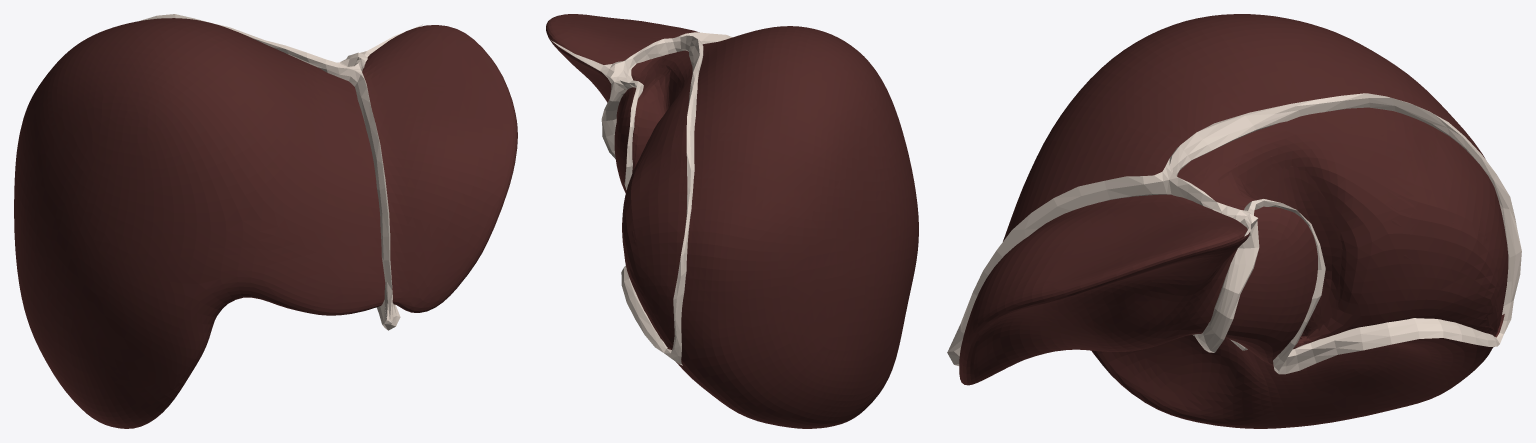
The model's file is VH_M_Liver_0.8.glb.
3 views of the same model, side by side, from view 1: azimuth 30°, elevation 25°; view 2: azimuth 150°, elevation 25°; view 3: azimuth 270°, elevation 25° (orthographic). The views are drawn at different scales.
Visible parts, largest first — view 1: VH_M_liver_capsule, VH_M_falciform_ligament, VH_M_coronary_ligament_of_liver; view 2: VH_M_liver_capsule, VH_M_bare_area_of_liver, VH_M_coronary_ligament_of_liver, VH_M_caudate_lobe_of_liver, VH_M_ligamentum_venosum, VH_M_right_posterosuperior_segment, VH_M_diaphragmatic_surface, VH_M_triangular_ligament_of_liver; view 3: VH_M_liver_capsule, VH_M_bare_area_of_liver, VH_M_coronary_ligament_of_liver, VH_M_caudate_lobe_of_liver, VH_M_falciform_ligament, VH_M_ligamentum_venosum, VH_M_diaphragmatic_surface, VH_M_right_posterosuperior_segment.
Boxes of the visible parts, <box> form: VH_M_liver_capsule: <box>14,18,517,428</box>; VH_M_falciform_ligament: <box>349,70,393,322</box>; VH_M_coronary_ligament_of_liver: <box>140,14,367,81</box>; VH_M_liver_capsule: <box>546,14,918,428</box>; VH_M_bare_area_of_liver: <box>622,50,692,347</box>; VH_M_coronary_ligament_of_liver: <box>610,35,703,365</box>; VH_M_caudate_lobe_of_liver: <box>632,55,689,159</box>; VH_M_ligamentum_venosum: <box>601,78,626,158</box>; VH_M_right_posterosuperior_segment: <box>627,107,687,314</box>; VH_M_diaphragmatic_surface: <box>632,74,680,337</box>; VH_M_triangular_ligament_of_liver: <box>551,40,616,82</box>; VH_M_liver_capsule: <box>959,14,1504,428</box>; VH_M_bare_area_of_liver: <box>1177,107,1508,344</box>; VH_M_coronary_ligament_of_liver: <box>1162,93,1521,374</box>; VH_M_caudate_lobe_of_liver: <box>1191,147,1342,348</box>; VH_M_falciform_ligament: <box>947,172,1166,351</box>; VH_M_ligamentum_venosum: <box>1193,219,1259,352</box>; VH_M_diaphragmatic_surface: <box>1227,156,1497,349</box>; VH_M_right_posterosuperior_segment: <box>1341,108,1496,314</box>.
Size of the model in its own units: 0.1915 by 0.1746 by 0.2022.
